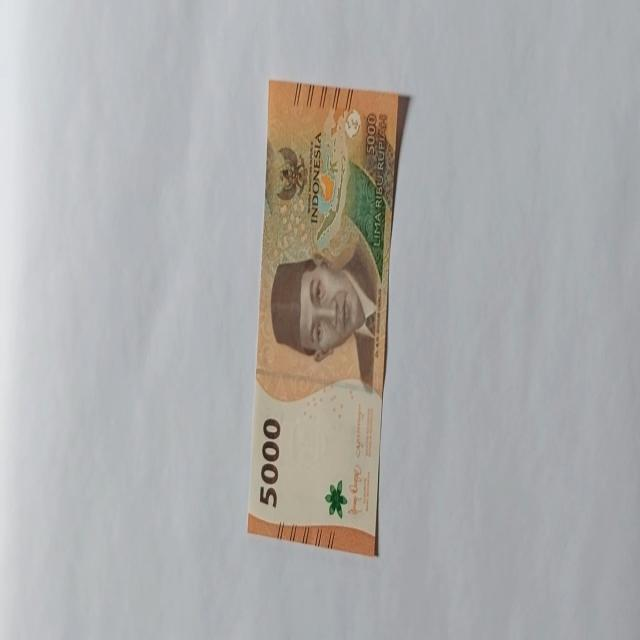lima ribu rupiah: (245, 78, 410, 556), (269, 250, 377, 366)
